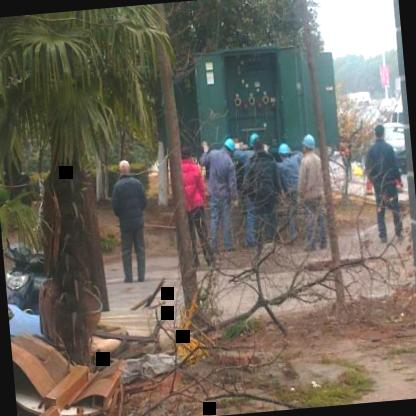head: (115, 154, 134, 182), (176, 142, 195, 166), (371, 118, 387, 146)
helmet: (300, 132, 319, 158), (276, 140, 294, 164), (222, 136, 238, 160)
